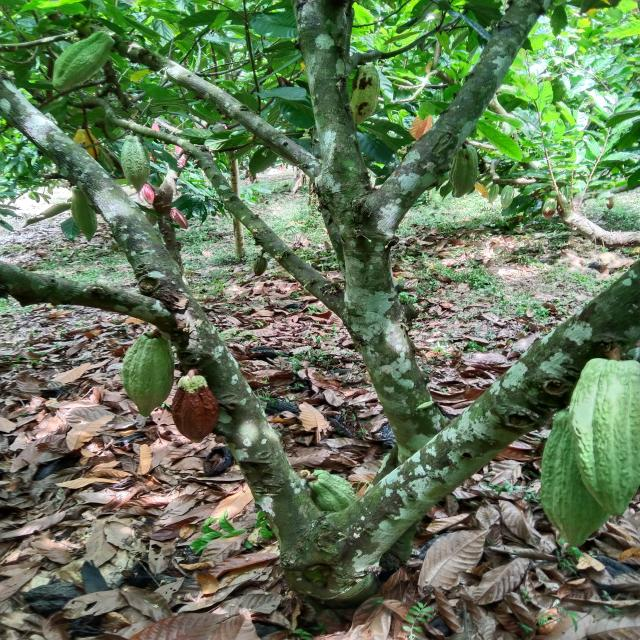Fitoftora: (170, 374, 218, 445), (349, 64, 382, 128), (457, 150, 479, 197), (544, 198, 555, 221)
Sana: (574, 355, 640, 515), (544, 416, 589, 548), (42, 34, 124, 94), (120, 333, 174, 417), (117, 136, 156, 193), (65, 195, 106, 243), (308, 469, 353, 508), (169, 209, 189, 229), (251, 259, 271, 278), (501, 185, 514, 212), (489, 184, 497, 204)
